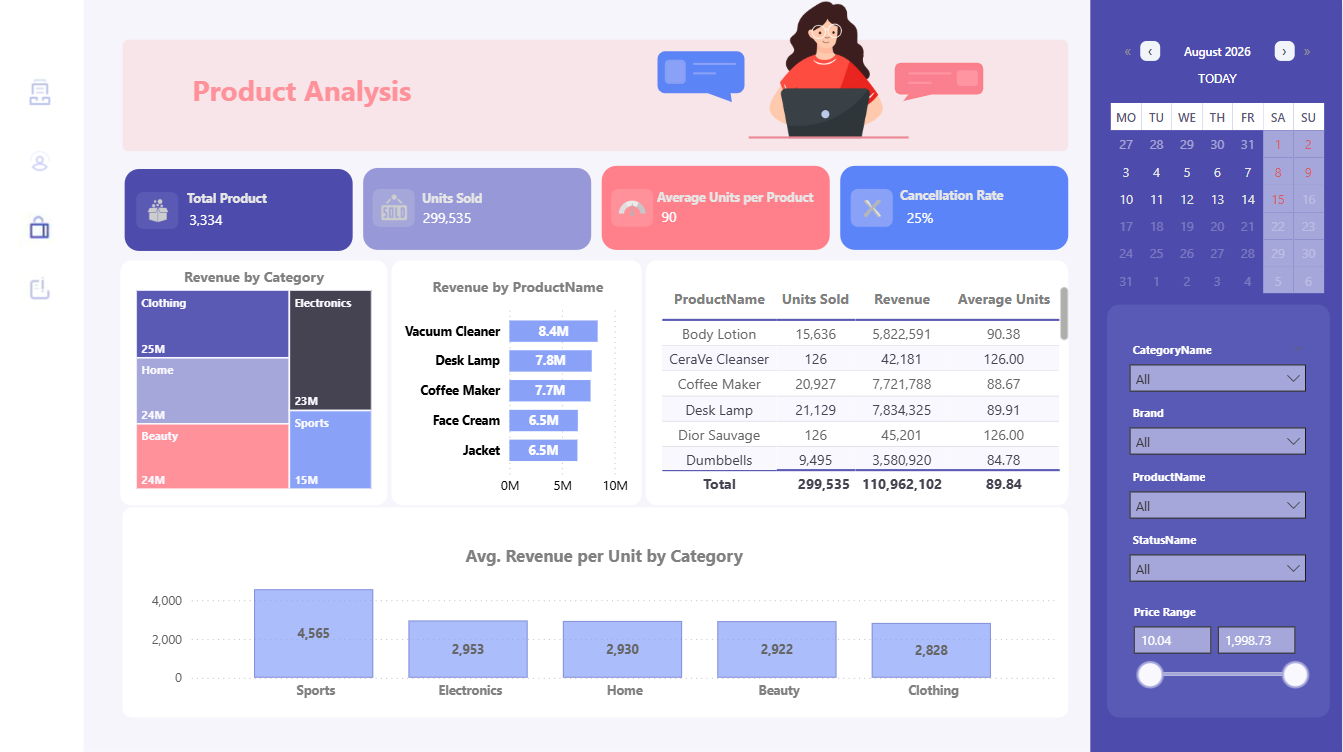

Layout of this report page (visuals, bound fields, positions):
{"tool":"powerbi","page":{"name":"Product Analysis","canvas":[1280,720],"ordinal":2},"visuals":[{"type":"card","title":"Total Product","fields":{"Values":["_Measures.Total Products"]},"box":[158.8,193.3,79.9,36.9],"z":0},{"type":"shape","title":"Total Product","box":[180.7,180.1,152.9,22.8],"z":1000},{"type":"card","title":"Total Product","fields":{"Values":["_Measures.Units Sold"]},"box":[388.1,191.5,79.9,36.9],"z":2000},{"type":"shape","title":"Units Sold","box":[404.2,179.6,152.9,22.8],"z":3000},{"type":"card","title":"Total Product","fields":{"Values":["_Measures.Average Units per Product"]},"box":[600,190.6,79.9,36.9],"z":4000},{"type":"shape","title":"Average Units per Product","box":[627.8,179,152.9,22.8],"z":5000},{"type":"card","title":"Total Product","fields":{"Values":["_Measures.Cancellation Rate"]},"box":[838.9,191.5,79.9,36.9],"z":6000},{"type":"shape","title":"Cancellation Rate","box":[859.1,177.5,176.6,25.5],"z":7000},{"type":"SuperDatePicker_BIsuperheroCZ","fields":{"dateColumn":["Orders.OrderDate"]},"box":[1043.7,0,236.3,296.9],"z":8000},{"type":"clusteredBarChart","title":"Revenue by ProductName","fields":{"Category":["Products.ProductName"],"Y":["_Measures.Item Revenue"]},"box":[381.7,263.5,228.4,216.4],"z":9000},{"type":"treemap","title":"Revenue by Category","fields":{"Group":["ProductCategories.CategoryName"],"Values":["_Measures.Item Revenue"]},"box":[127.8,253.9,234,216.4],"z":10000},{"type":"tableEx","fields":{"Values":["Products.ProductName","_Measures.Units Sold","_Measures.Item Revenue","_Measures.Average Units per Product"]},"box":[627.6,267.5,397.7,209.2],"z":11000},{"type":"clusteredColumnChart","title":"Avg. Revenue per Unit by Category","fields":{"Category":["ProductCategories.CategoryName"],"Y":["_Measures.Avg. Revenue per Unit"]},"box":[141.3,517.4,872,157.3],"z":12000},{"type":"slicer","fields":{"Values":["ProductCategories.CategoryName"]},"box":[1068.1,320,188,60.1],"z":13000},{"type":"slicer","fields":{"Values":["Products.Brand"]},"box":[1068.1,380.2,188,60.1],"z":14000},{"type":"slicer","fields":{"Values":["Products.ProductName"]},"box":[1068.1,440.3,188,60.1],"z":15000},{"type":"slicer","fields":{"Values":["OrderStatuses.StatusName"]},"box":[1068.1,500.5,188,60.1],"z":16000},{"type":"slicer","fields":{"Values":["Products.Price"]},"box":[1068.4,568.7,187.9,106.5],"z":17000},{"type":"textbox","box":[180.5,61.5,234,59.9],"z":18000}]}

Visuals, with their boxes on the page's 1280x720 design canvas (x1, y1, x2, y2). These are canvas units, not pixel positions in the 1343x752 screenshot, which may show the page scaled, cropped or inside an application window:
"Total Product" card: crop(159, 193, 239, 230)
"Total Product" shape: crop(181, 180, 334, 203)
"Total Product" card: crop(388, 192, 468, 228)
"Units Sold" shape: crop(404, 180, 557, 202)
"Total Product" card: crop(600, 191, 680, 228)
"Average Units per Product" shape: crop(628, 179, 781, 202)
"Total Product" card: crop(839, 192, 919, 228)
"Cancellation Rate" shape: crop(859, 178, 1036, 203)
SuperDatePicker_BIsuperheroCZ - Orders.OrderDate: crop(1044, 0, 1280, 297)
"Revenue by ProductName" clusteredBarChart: crop(382, 264, 610, 480)
"Revenue by Category" treemap: crop(128, 254, 362, 470)
tableEx - Products.ProductName x _Measures.Units Sold: crop(628, 268, 1025, 477)
"Avg. Revenue per Unit by Category" clusteredColumnChart: crop(141, 517, 1013, 675)
slicer - ProductCategories.CategoryName: crop(1068, 320, 1256, 380)
slicer - Products.Brand: crop(1068, 380, 1256, 440)
slicer - Products.ProductName: crop(1068, 440, 1256, 500)
slicer - OrderStatuses.StatusName: crop(1068, 500, 1256, 561)
slicer - Products.Price: crop(1068, 569, 1256, 675)
textbox: crop(180, 62, 414, 121)
